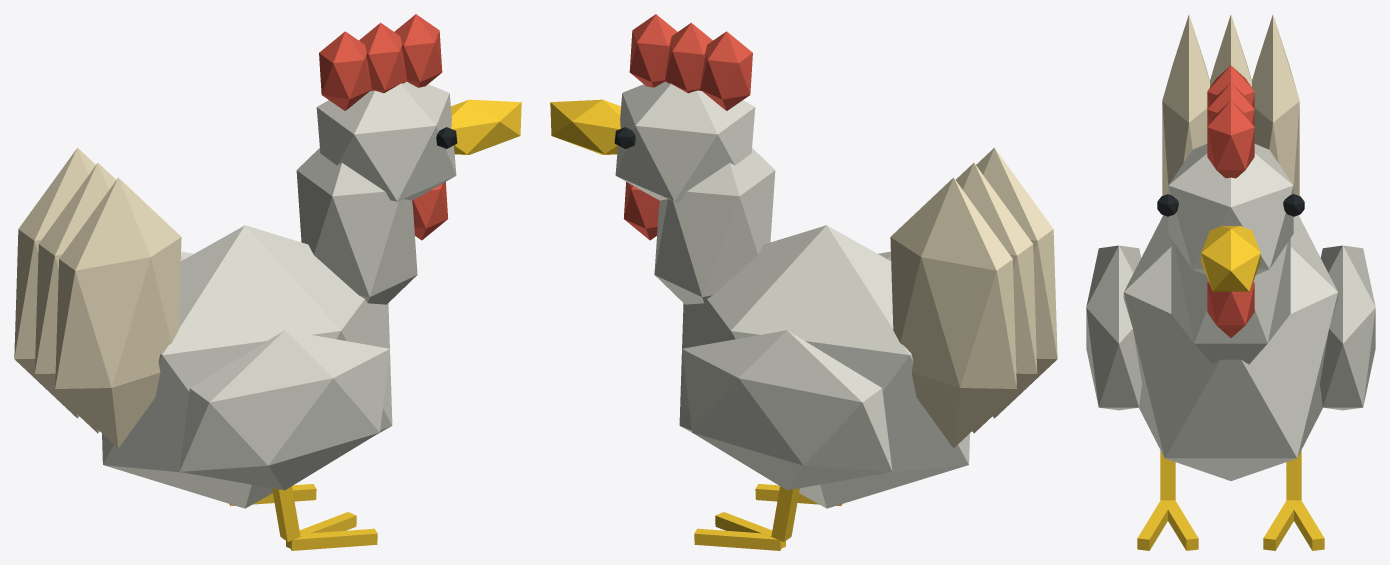
Rendered from TR3_Chicken_white.glb.
3 renders of one model, left to right at view 1: azimuth 30°, elevation 25°; view 2: azimuth 150°, elevation 25°; view 3: azimuth 270°, elevation 25°, orthographic. The views are drawn at different scales.
Parts seen in each view (by area): view 1: TR3_Chicken_white; view 2: TR3_Chicken_white; view 3: TR3_Chicken_white.
Boxes of the visible parts, x1,y1,x2,y2 form: TR3_Chicken_white: [14, 14, 521, 550]; TR3_Chicken_white: [550, 14, 1057, 550]; TR3_Chicken_white: [1086, 15, 1375, 550].
Size of the model in its own units: 0.8268 by 0.774 by 0.4136.
